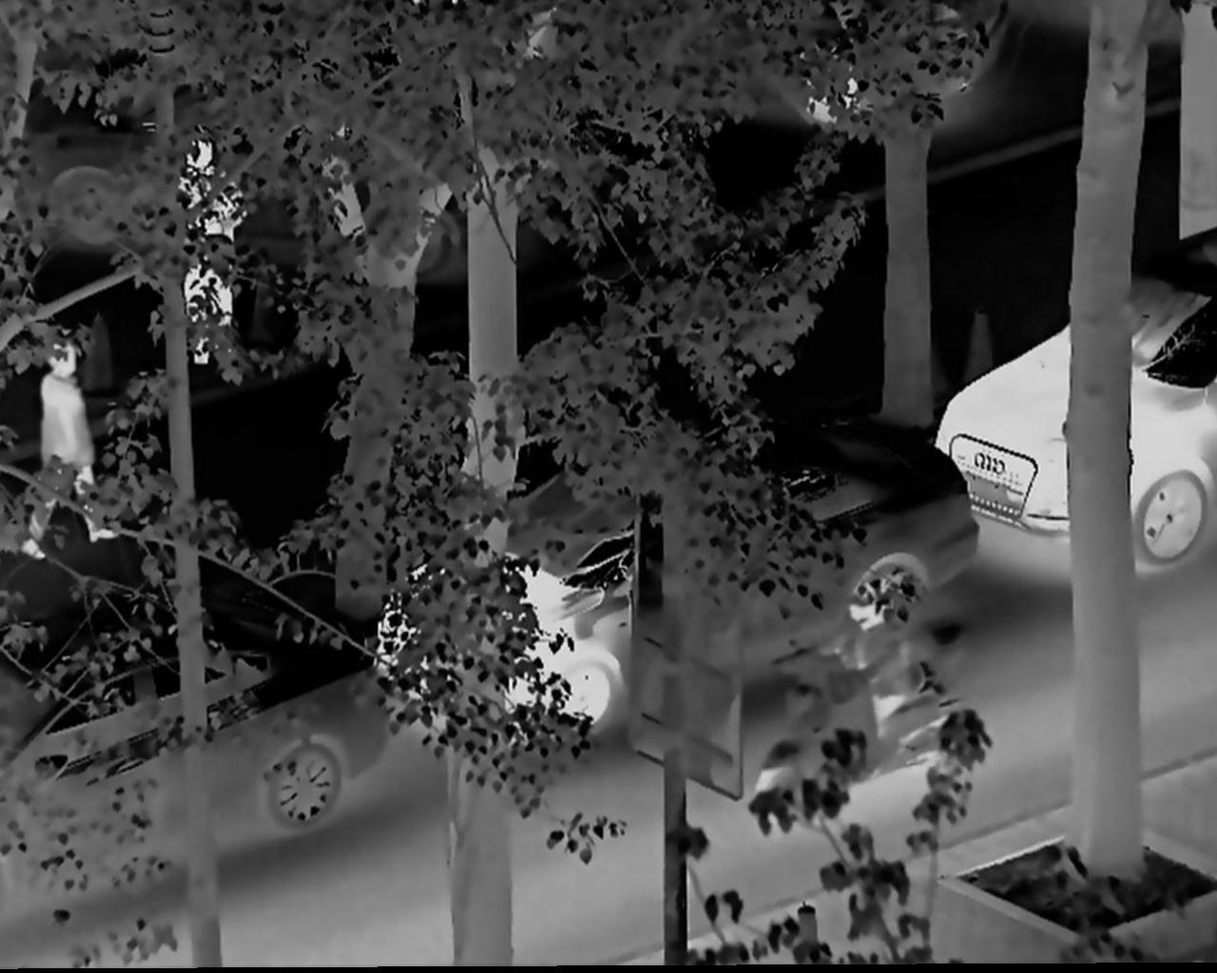person: (21, 340, 119, 560), (159, 135, 244, 373), (816, 592, 918, 764)
